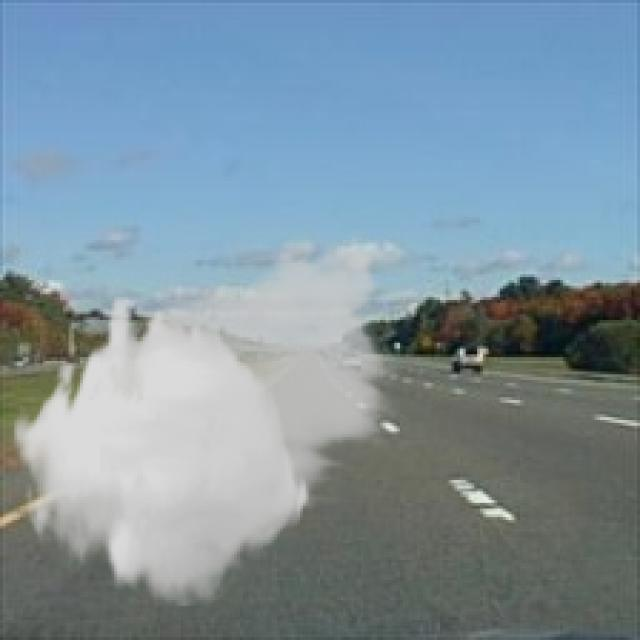smoke: (11, 225, 400, 606)
